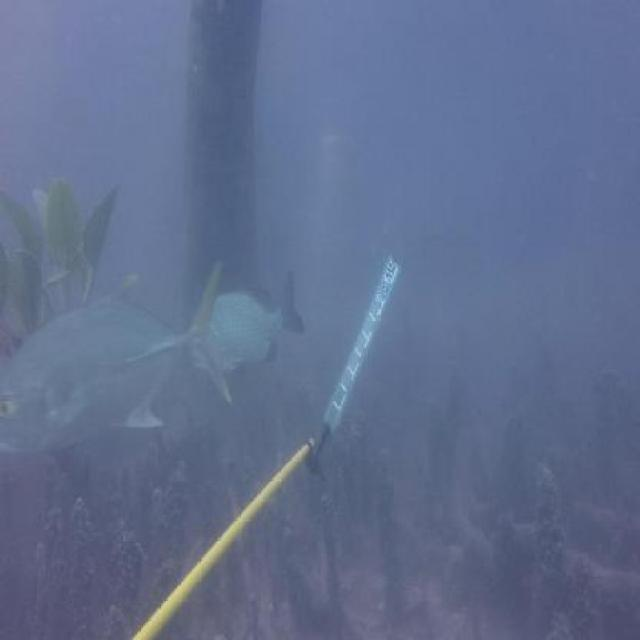Caranx: (0, 257, 235, 460)
acanthopagrus_palmaris: (191, 268, 307, 372)
